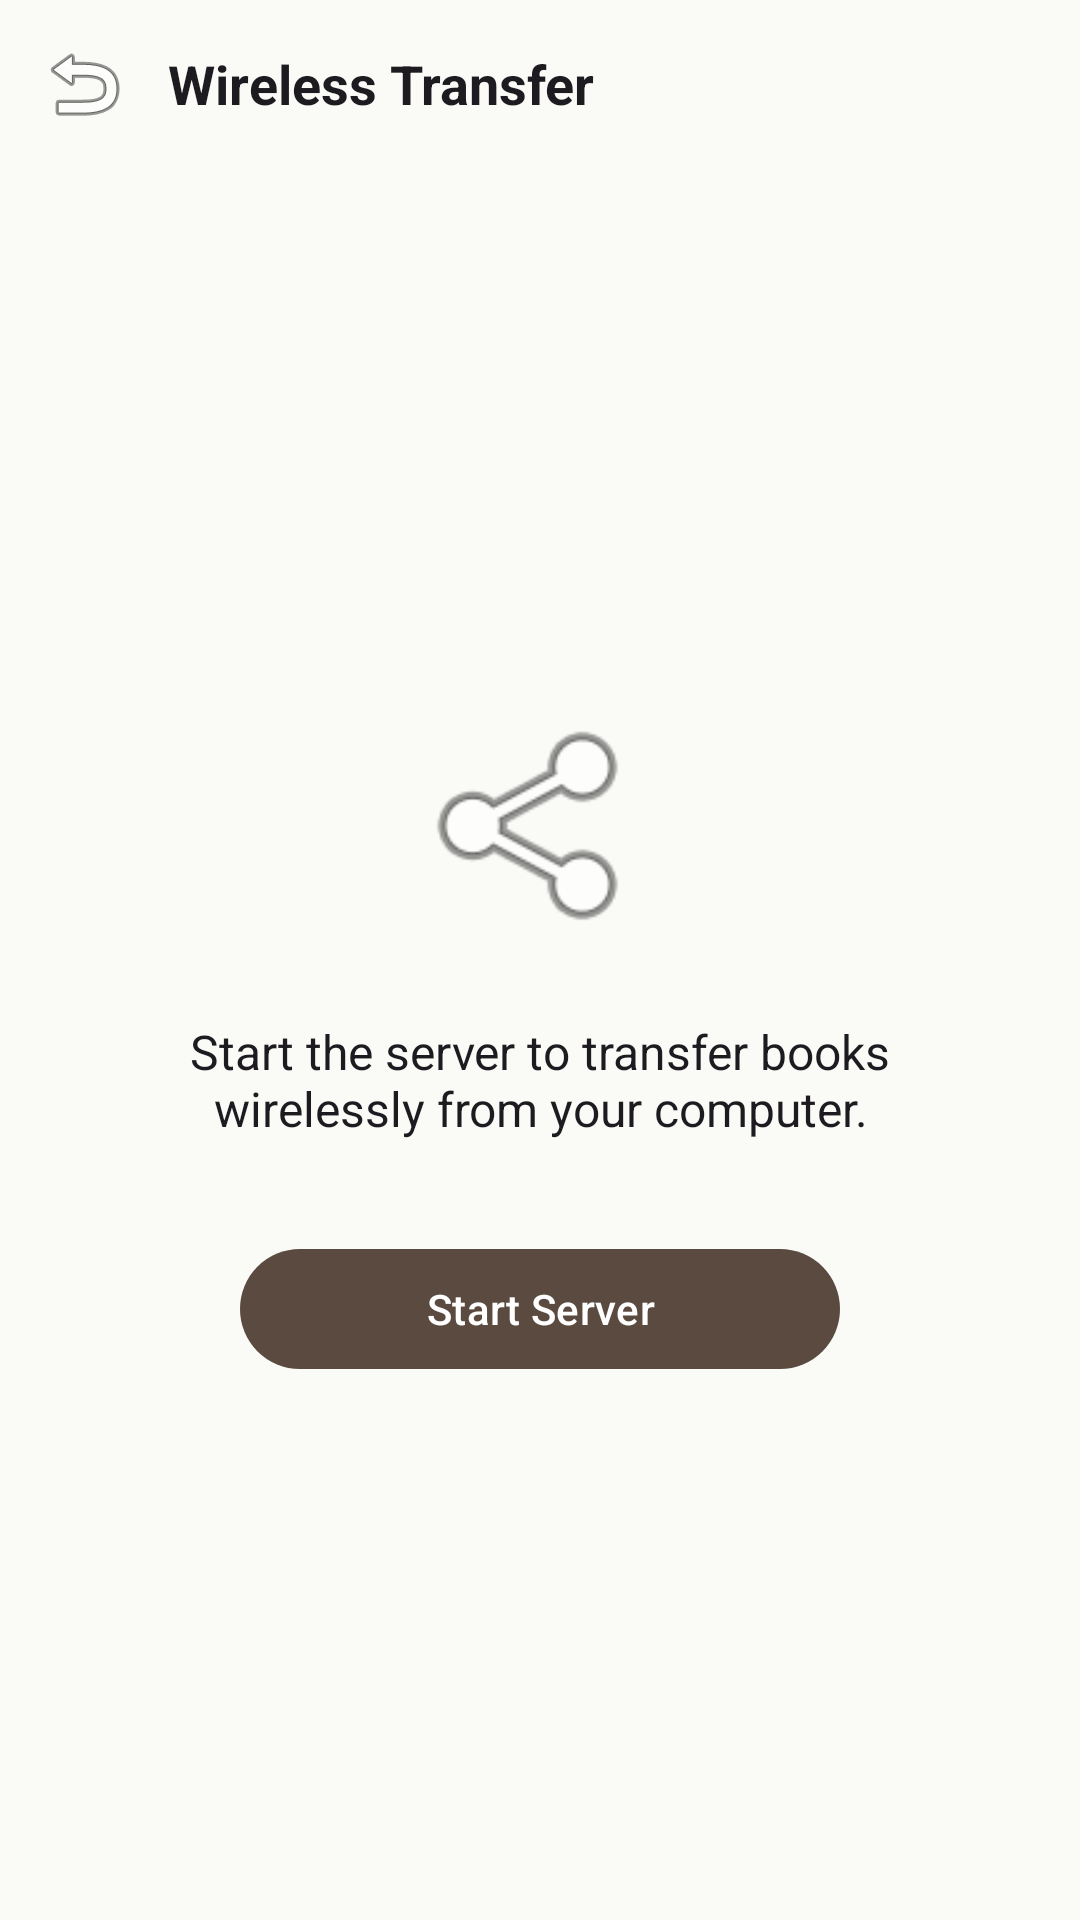

Icon click points for this 1080w x 1920h phone screenshot, format point (x, y):
share: point (527, 826)
